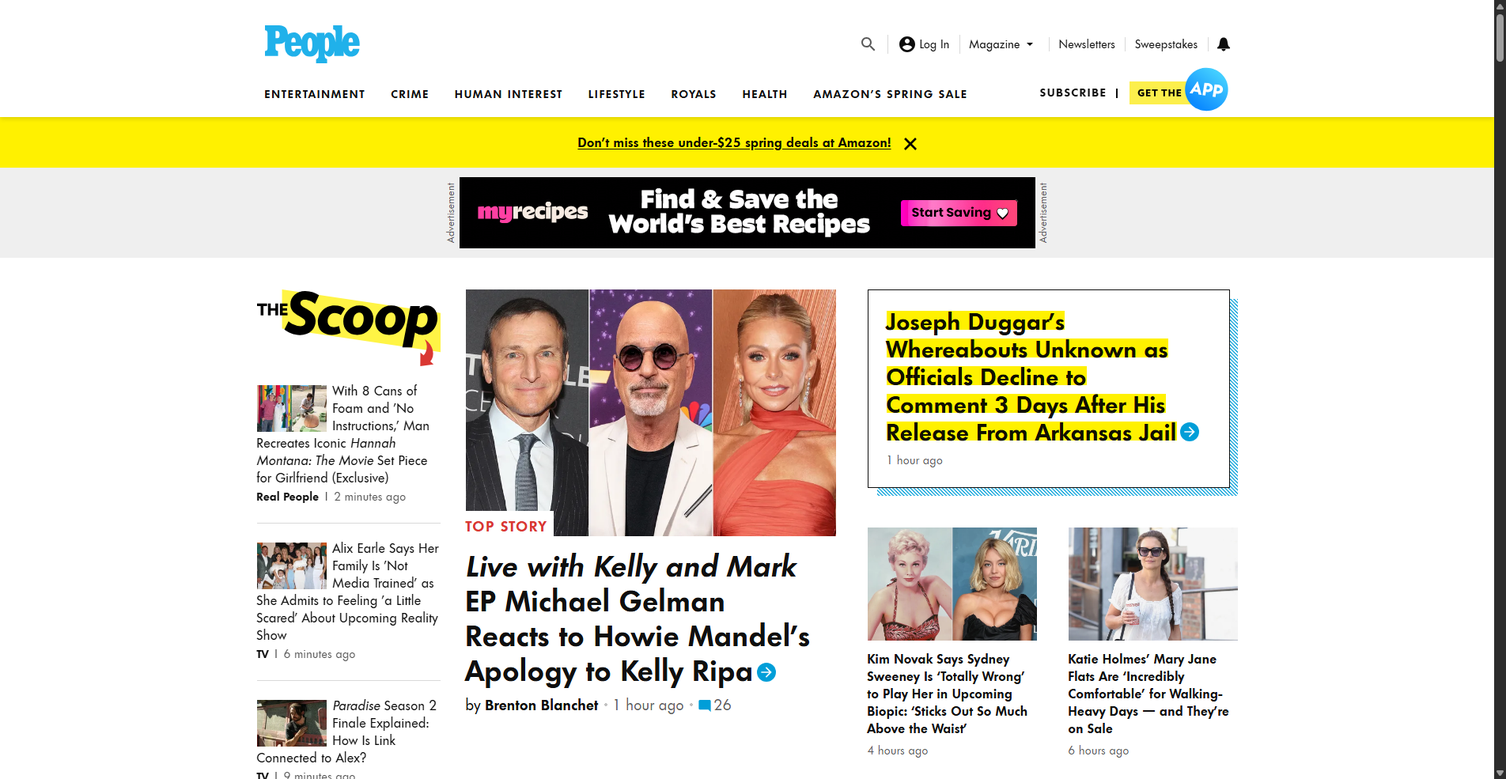button: (969, 35, 1039, 54), (1059, 37, 1115, 51), (859, 35, 878, 54), (904, 138, 916, 150)
link: (465, 289, 836, 758), (867, 289, 1228, 487), (867, 528, 1037, 758), (1068, 528, 1237, 758), (257, 382, 440, 486), (257, 540, 440, 644), (257, 697, 440, 767), (578, 133, 891, 151), (1129, 66, 1230, 113), (265, 25, 359, 63), (257, 385, 326, 432), (257, 700, 326, 747), (257, 543, 326, 589), (814, 87, 968, 101), (1040, 85, 1107, 113), (455, 87, 563, 101), (265, 87, 366, 101), (898, 35, 950, 54), (1135, 37, 1198, 51), (257, 490, 319, 504), (589, 87, 646, 101), (671, 87, 717, 101), (743, 87, 788, 101), (391, 87, 430, 101), (257, 647, 269, 661), (257, 770, 269, 779)
menu_item: (959, 35, 1039, 54), (887, 35, 950, 54), (1125, 37, 1198, 51), (1049, 37, 1115, 51), (859, 34, 878, 54)
